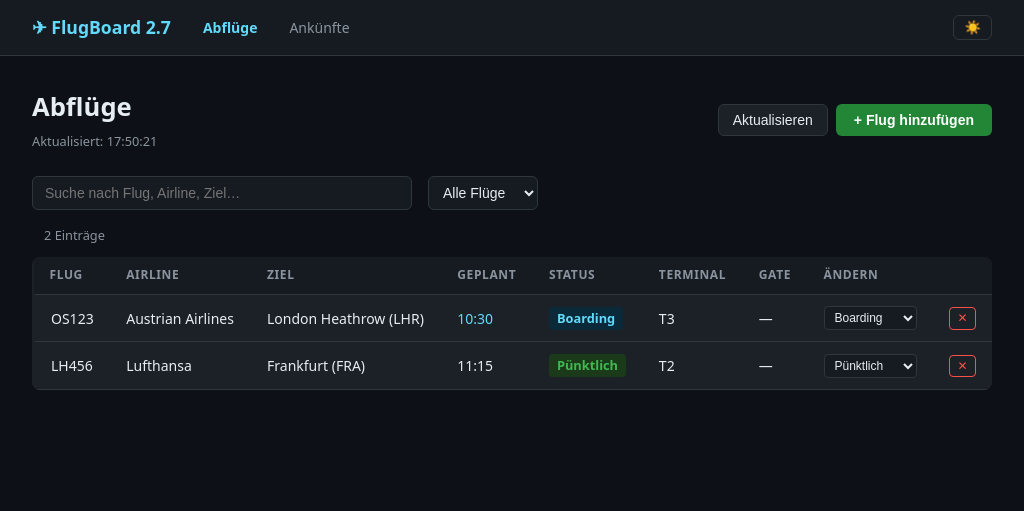
Suche filtert die Tabelle, ohne Treffer erscheint der Empty State
This screenshot has width=1024, height=511.
Expected: the text "OS123" is shown, [51, 309, 94, 328]
In the search field named "Flüge suchen": (222, 193) [32, 176, 412, 210], type "Frankfurt"
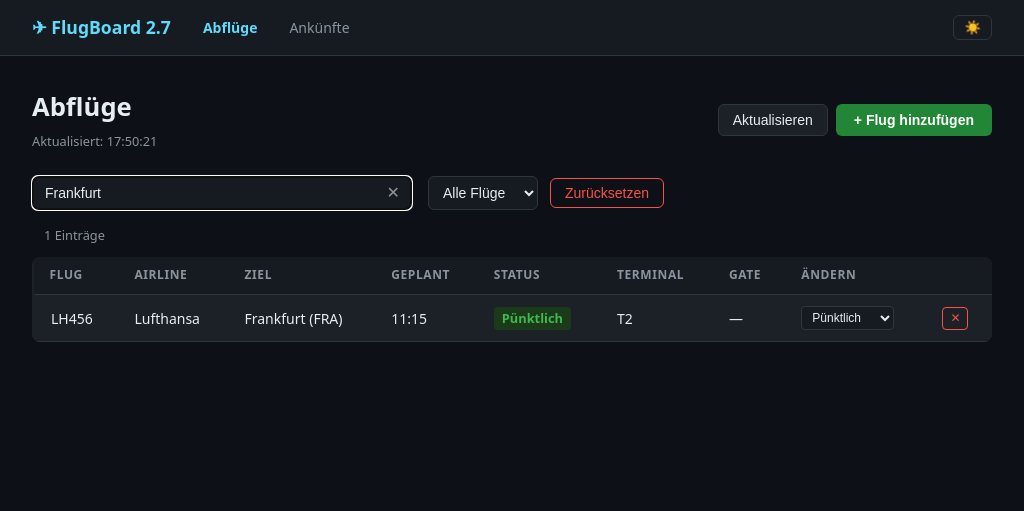
Expected: the text "LH456" is shown, [51, 309, 93, 328]
Expected: the text "OS123" is gone
Replace the text in the search field named "Flüge suchen" with "xyz": (222, 193) [32, 176, 412, 210]
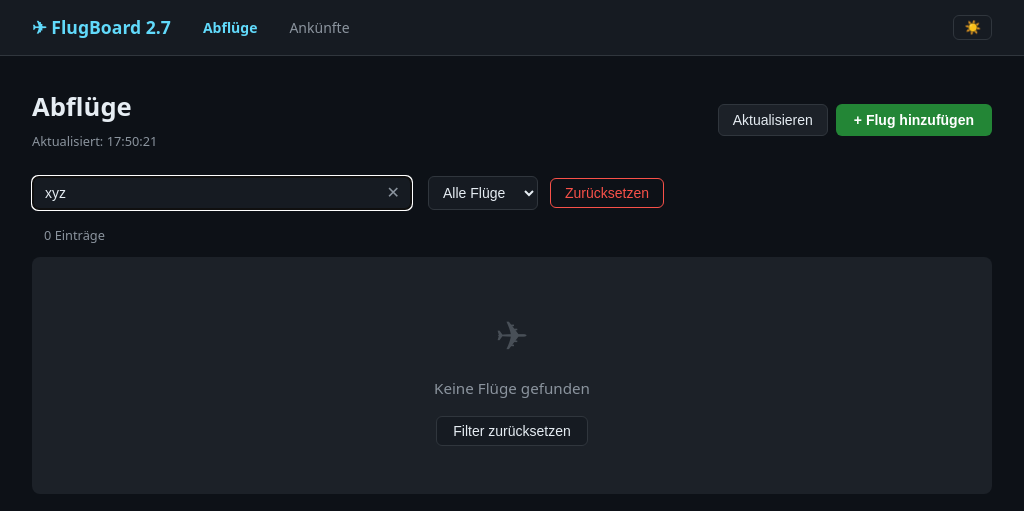
Expected: the text "Keine Flüge gefunden" is shown, [434, 377, 590, 400]
Click the button "Filter zurücksetzen": click(512, 431) [436, 416, 588, 446]
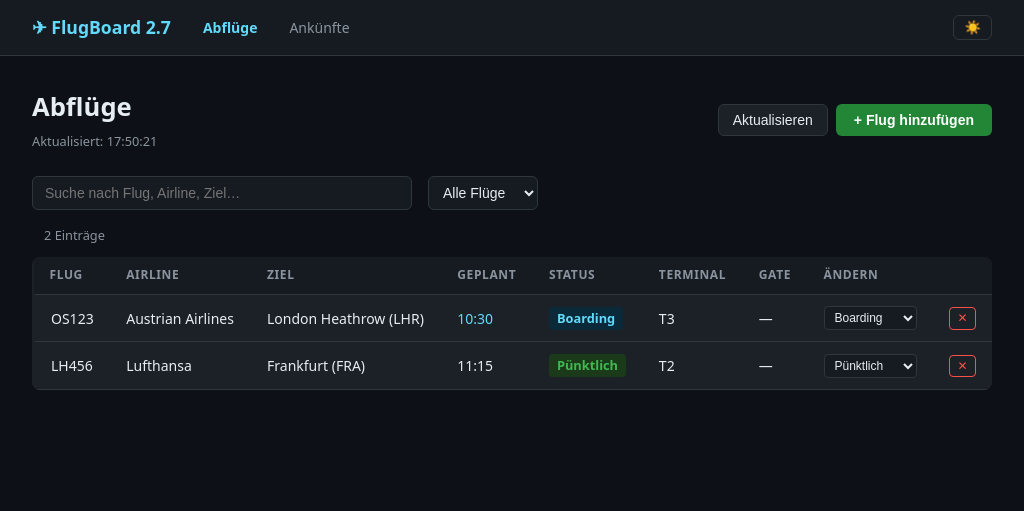
Expected: the text "OS123" is shown, [51, 309, 94, 328]
